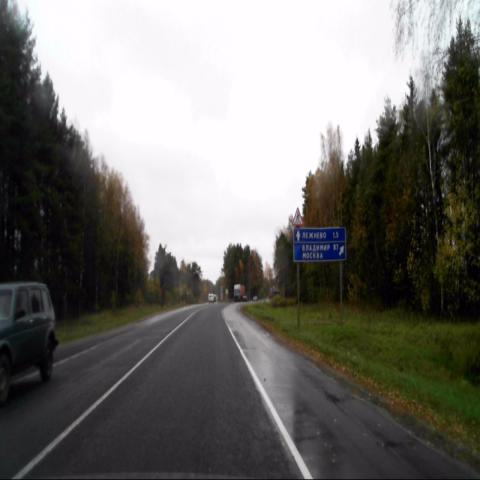1_22: (292, 206, 303, 225)
